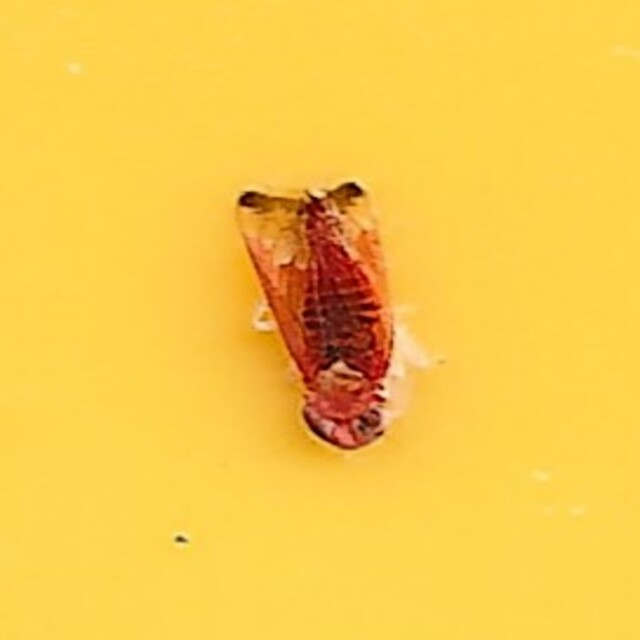Hemiptera: (235, 181, 405, 459)
